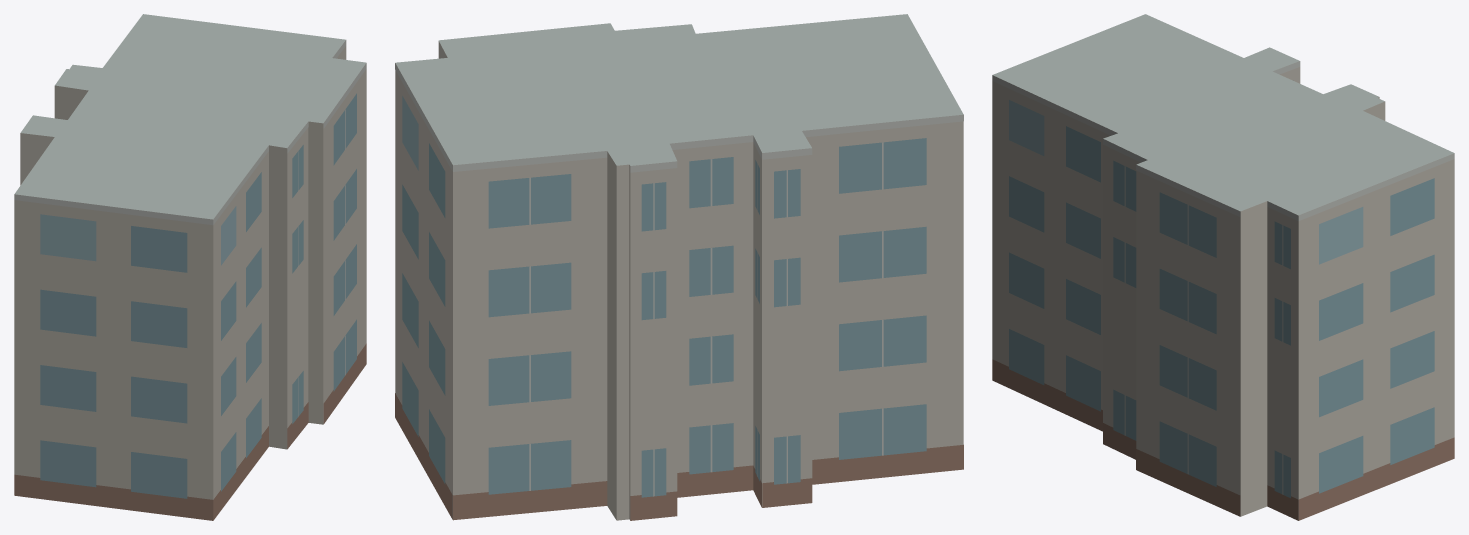
File: survey-upis-32724822.glb
3 renders of one model, left to right at view 1: azimuth 30°, elevation 25°; view 2: azimuth 150°, elevation 25°; view 3: azimuth 270°, elevation 25°, orthographic. The views are drawn at different scales.
Parts seen in each view (by area): view 1: survey-upis-32724822.tmp; view 2: survey-upis-32724822.tmp; view 3: survey-upis-32724822.tmp.
Boxes of the visible parts, box(x1,y1,x2,y2) form: survey-upis-32724822.tmp: box(14, 14, 366, 520); survey-upis-32724822.tmp: box(395, 14, 963, 520); survey-upis-32724822.tmp: box(992, 14, 1454, 520).
Size of the model in its own units: 18.12 by 12.8 by 17.57.
